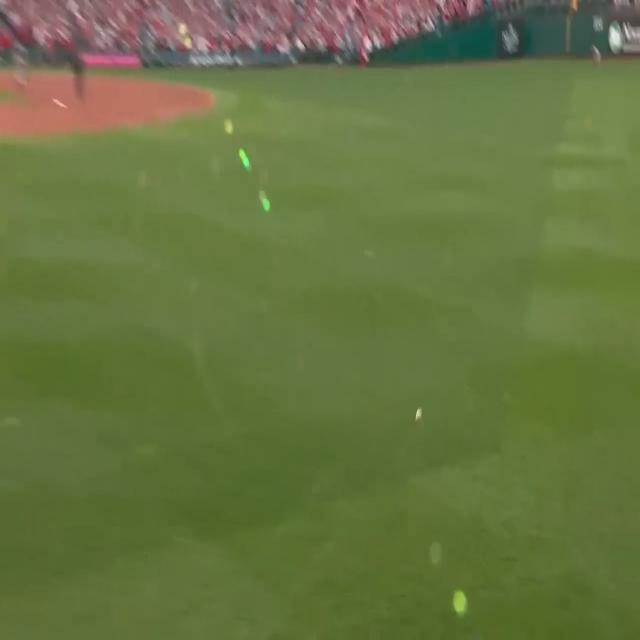baseball: (414, 406, 424, 424)
